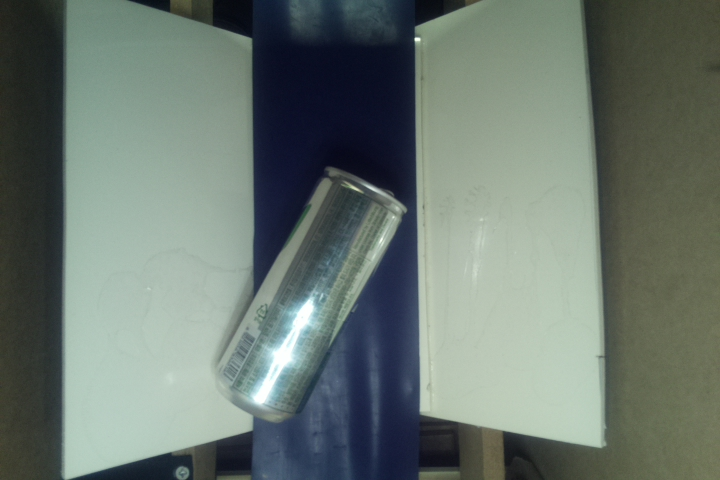can: (211, 165, 405, 426)
